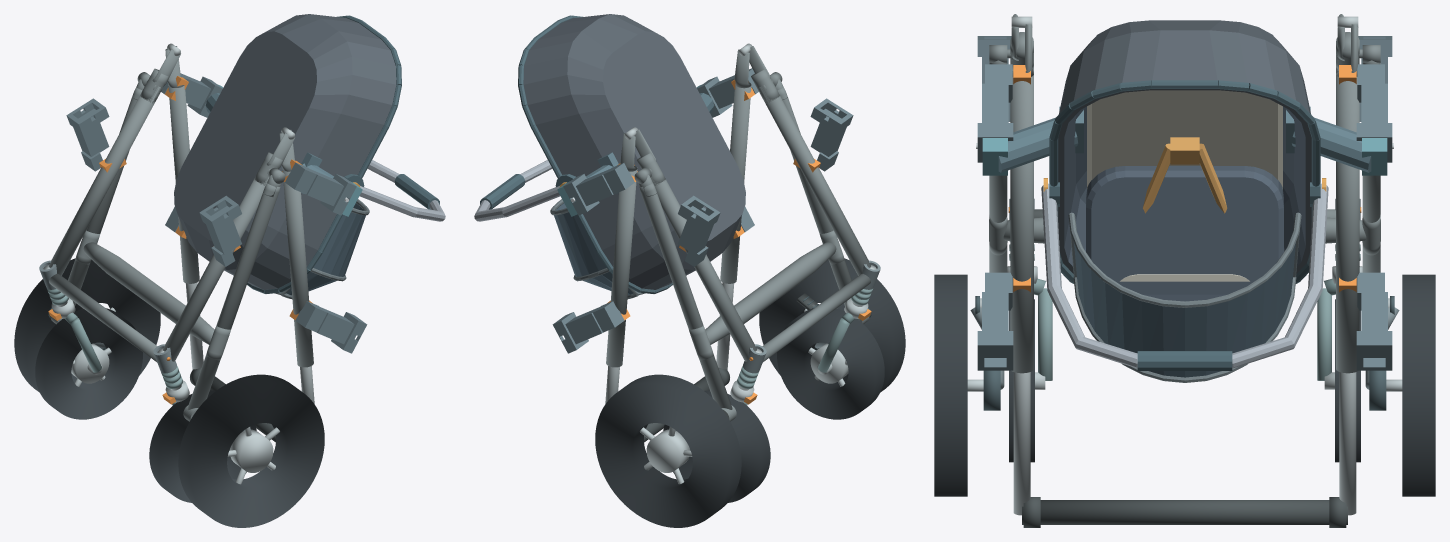
The model's file is S07_w550_state3_wheel_M.glb.
3 views of the same model, side by side, from view 1: azimuth 30°, elevation 25°; view 2: azimuth 150°, elevation 25°; view 3: azimuth 270°, elevation 25° (orthographic). The views are drawn at different scales.
Visible parts, largest first — view 1: S07_Cabin, RL_tire.002, FR_tire.002, RR_tire.002, main_lower_1.003, V46_rear_leg_-1.003, main_upper_-1.003, FL_tire.002, V46_rearbar.003, main_lower_-1.003, main_upper_1.003, Universal_Cabin_Receiver_M_-1 (+12 smaller); view 2: S07_Cabin, RR_tire.002, FL_tire.002, RL_tire.002, main_lower_-1.003, V46_rear_leg_1.003, main_upper_1.003, FR_tire.002, V46_rearbar.003, main_lower_1.003, main_upper_-1.003, Universal_Cabin_Receiver_H_1 (+13 smaller); view 3: S07_Cabin, RL_tire.002, RR_tire.002, round_handle.002, S07_Cabin_Mount_M, main_upper_1.003, main_upper_-1.003, Universal_Cabin_Receiver_H_1, Universal_Cabin_Receiver_H_-1, handle_slider_1.002, handle_slider_-1.002, Universal_Cabin_Receiver_M_-1 (+14 smaller).
Part boxes in pixels (x1,y1,x2,y2): S07_Cabin: (174, 14, 445, 298); RL_tire.002: (178, 374, 324, 527); FR_tire.002: (35, 308, 142, 419); RR_tire.002: (14, 258, 160, 392); main_lower_1.003: (49, 86, 160, 275); V46_rear_leg_-1.003: (187, 183, 280, 409); main_upper_-1.003: (282, 169, 313, 367); FL_tire.002: (149, 390, 256, 502); V46_rearbar.003: (83, 242, 214, 344); main_lower_-1.003: (163, 177, 268, 361); main_upper_1.003: (168, 85, 199, 283); Universal_Cabin_Receiver_M_-1: (285, 162, 356, 215); S07_Cabin: (474, 14, 745, 298); RR_tire.002: (595, 374, 741, 527); FL_tire.002: (777, 308, 884, 419); RL_tire.002: (759, 258, 905, 392); main_lower_-1.003: (759, 86, 870, 275); V46_rear_leg_1.003: (639, 183, 732, 409); main_upper_1.003: (606, 167, 637, 367); FR_tire.002: (663, 390, 770, 502); V46_rearbar.003: (705, 242, 836, 344); main_lower_1.003: (651, 177, 756, 361); main_upper_-1.003: (720, 84, 751, 283); Universal_Cabin_Receiver_H_1: (552, 301, 624, 353); S07_Cabin: (1041, 20, 1328, 382); RL_tire.002: (934, 274, 967, 496); RR_tire.002: (1402, 274, 1435, 496); round_handle.002: (1022, 500, 1347, 524); S07_Cabin_Mount_M: (976, 106, 1393, 175); main_upper_1.003: (1336, 72, 1359, 373); main_upper_-1.003: (1010, 75, 1033, 373); Universal_Cabin_Receiver_H_1: (1356, 272, 1392, 370); Universal_Cabin_Receiver_H_-1: (977, 272, 1013, 370); handle_slider_1.002: (1339, 372, 1356, 515); handle_slider_-1.002: (1013, 372, 1030, 515); Universal_Cabin_Receiver_M_-1: (977, 64, 1013, 162).
Size of the model in its own units: 0.727 by 0.8458 by 0.6771.
